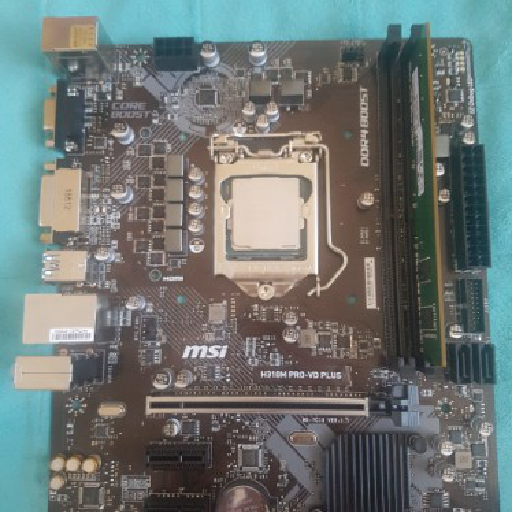CPU: (210, 137, 333, 296)
GPU: (143, 381, 423, 426)
MOTHERBOARD: (10, 16, 500, 512)
RAM: (377, 21, 443, 367)
